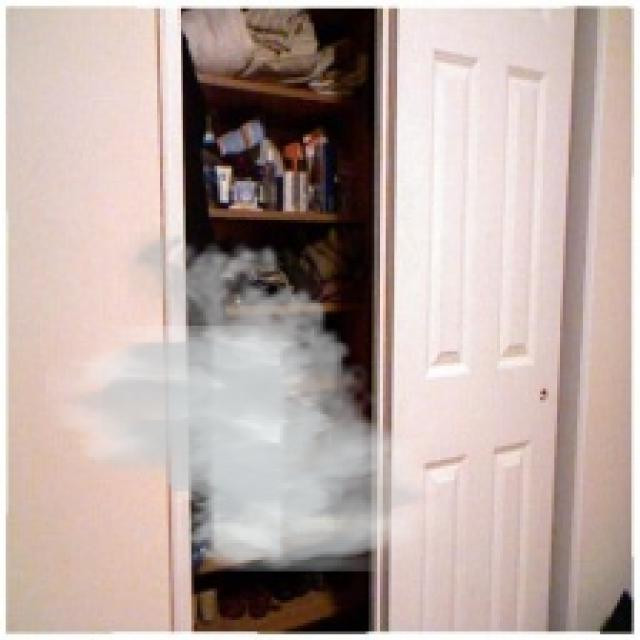smoke: (46, 223, 448, 571)
